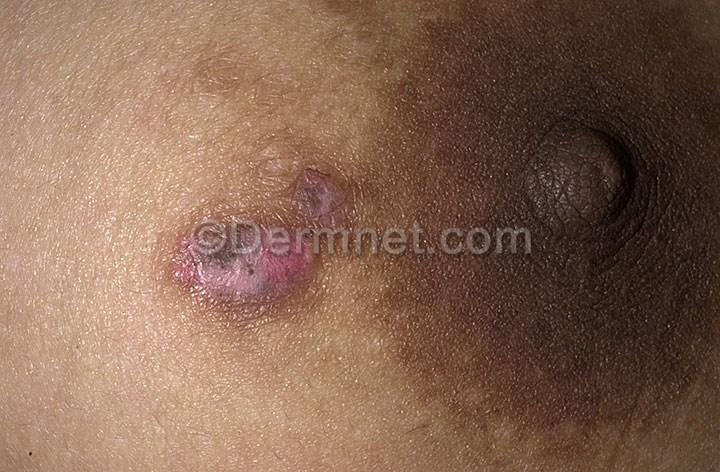Eczema: (165, 200, 340, 333), (282, 147, 366, 226)
